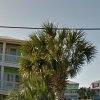Palm tree: (18, 19, 79, 96)
